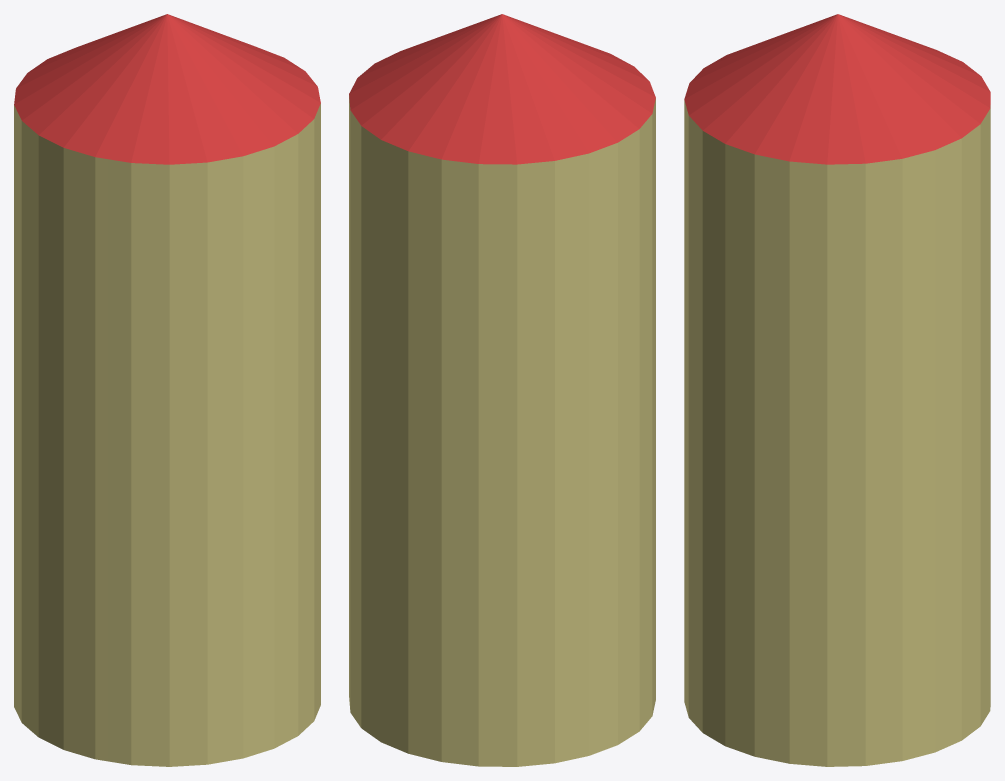
3 renders of one model, left to right at view 1: azimuth 30°, elevation 25°; view 2: azimuth 150°, elevation 25°; view 3: azimuth 270°, elevation 25°, orthographic.
Bounding box in the file's own units: 8.25 × 8.23 × 20.4.
